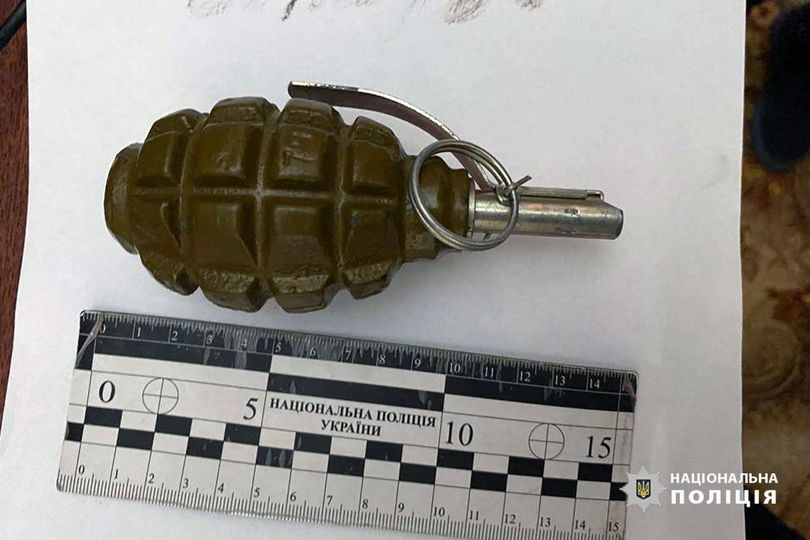F1: (103, 79, 628, 315)
